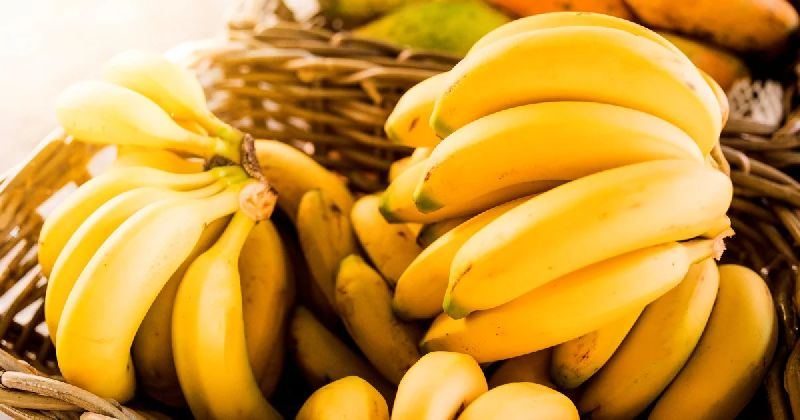looks_good: (36, 27, 789, 420)
